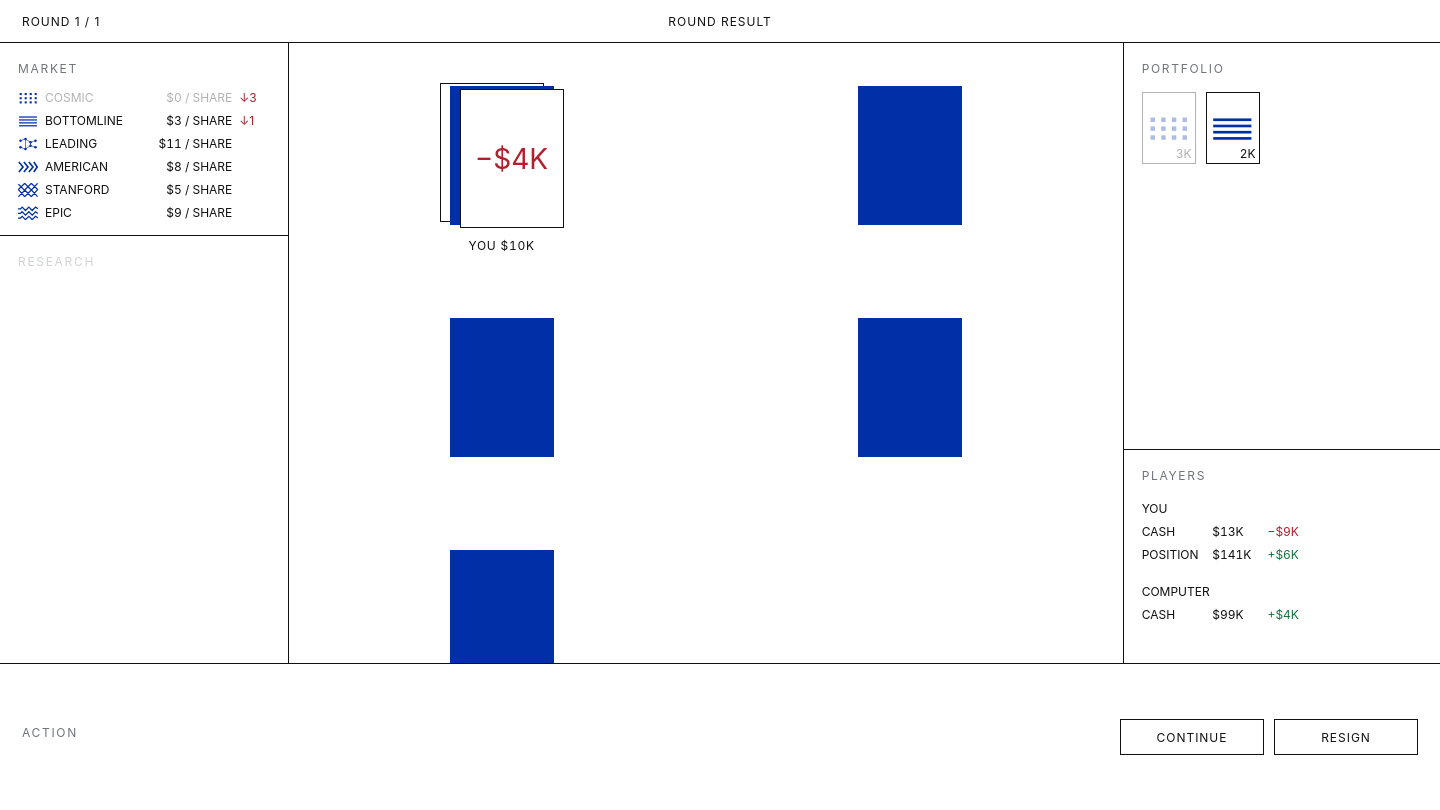
Test: disciplined Stockpile Trainer game surface › holds bankruptcy at the round checkpoint, fades only canonical facts, then renders the normalized next round
expect the element showing "COSMIC $0 / SHARE ↓3" is shown: met, box [18,90,270,105]
expect the text "$0 / SHARE" is shown: met, box [142,90,232,105]
Click the button "CONTINUE": (1192, 737) [1120,719,1264,755]
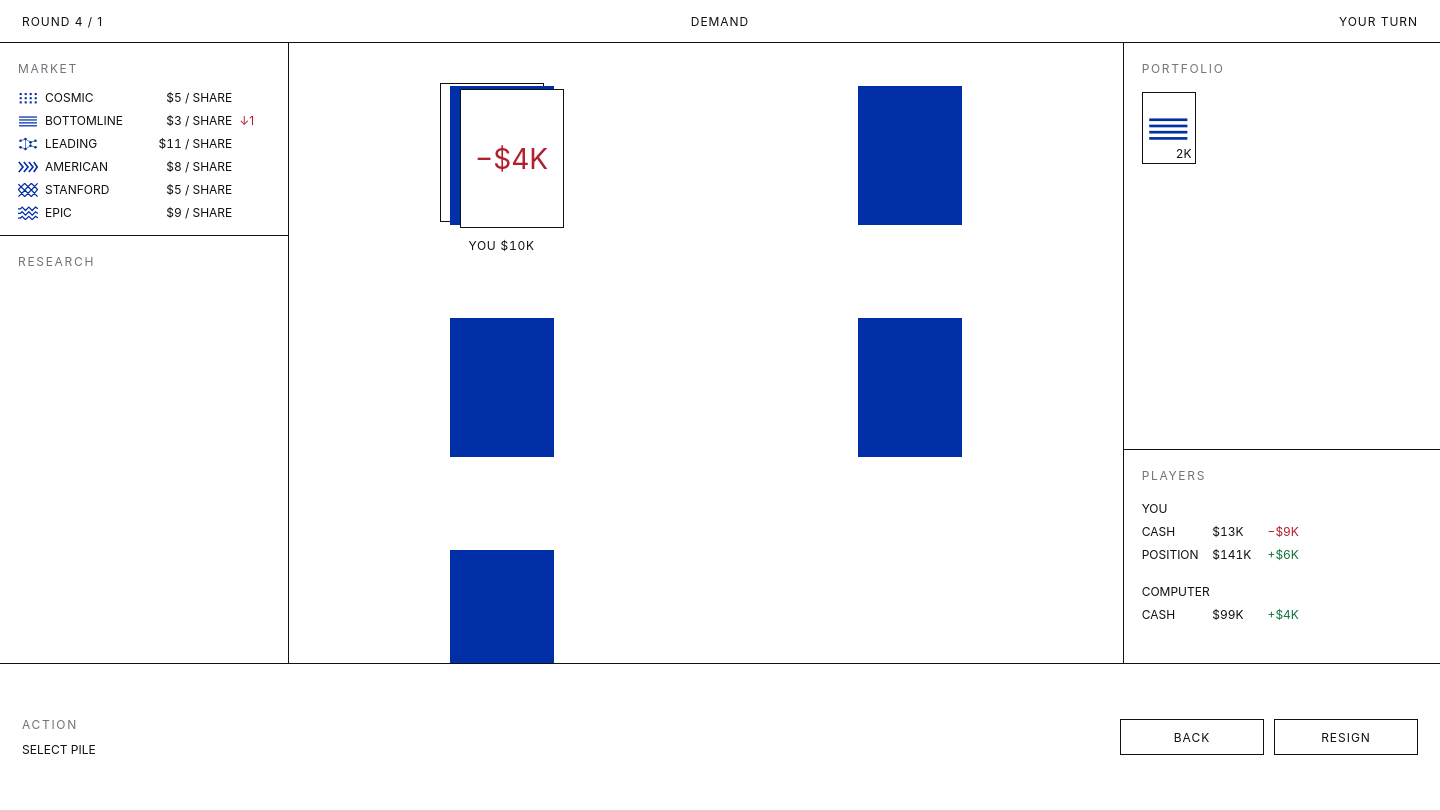
expect the element showing "2K" is shown: met, box [1142,92,1196,164]
expect the text "$5 / SHARE" next to "COSMIC" is shown: met, box [166,90,232,105]
